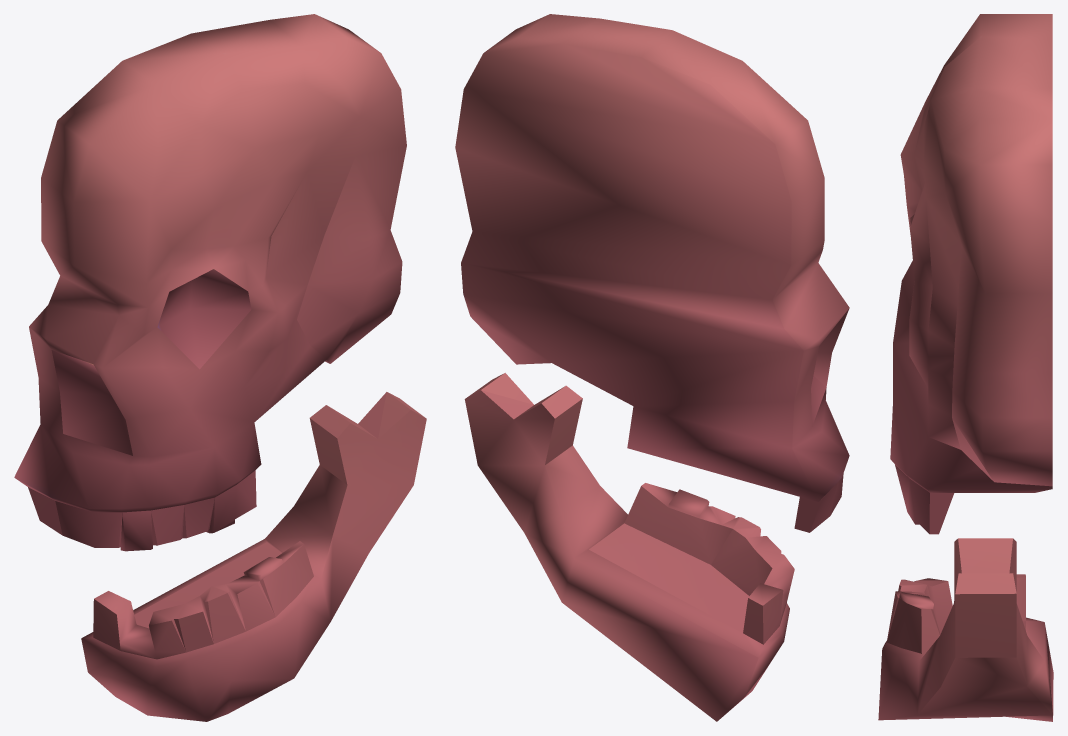
File: half-skull.glb
3 views of the same model, side by side, from view 1: azimuth 30°, elevation 25°; view 2: azimuth 150°, elevation 25°; view 3: azimuth 270°, elevation 25° (orthographic). The views are drawn at different scales.
Visible parts, largest first — view 1: Cube2; view 2: Cube2; view 3: Cube2.
Part boxes in pixels (<box>): Cube2: <box>14,14,426,721</box>; Cube2: <box>455,14,849,721</box>; Cube2: <box>878,14,1053,721</box>.
Bounding box in the file's own units: 1.56 × 2.62 × 0.5717.
Materials: 1 (1 with a texture image).
